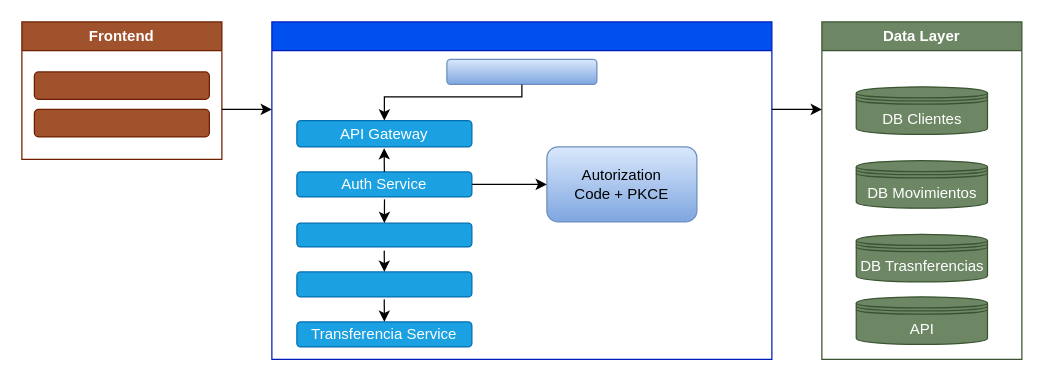
Image size: 1044x381. Some labels were removed from this diagram. The shapes that lost their labels are listed below. From the top down, each one's box as (x1, y1, x2, y2) in pixels, then its label:
(33, 71, 209, 99): SPA (React)
(446, 58, 597, 84): Load Balancer
(33, 108, 209, 137): Móvil App (Flutter)
(296, 222, 472, 247): Cliente Service
(296, 271, 472, 297): Movimientos Service
